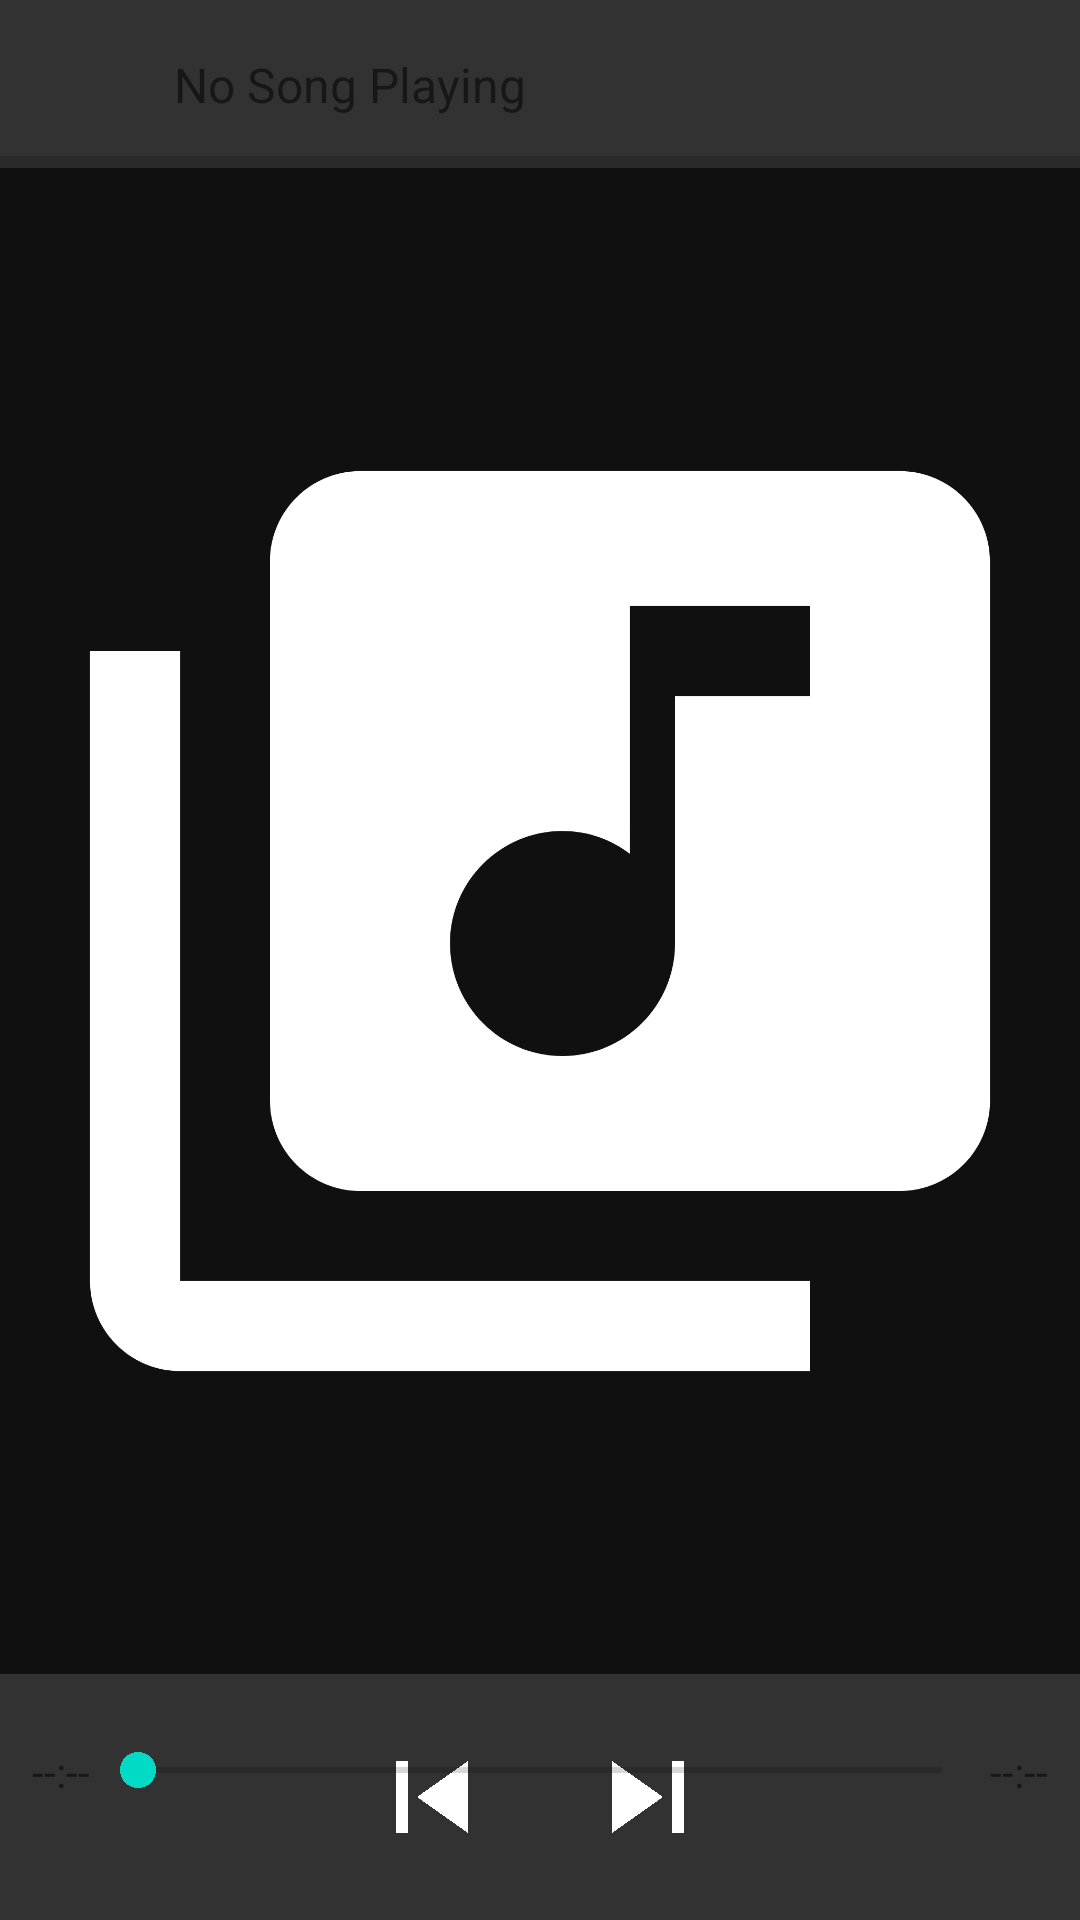

Locate icon controls on the screen. Image size 1080 x 1920, boxes as (x1, y1, x2, y2).
next: (612, 1761, 684, 1833)
previous: (396, 1761, 468, 1833)
